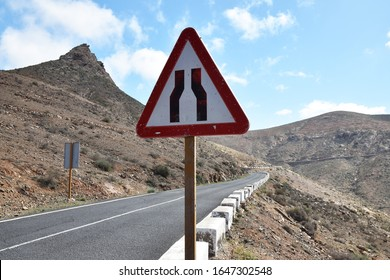narrow-road: (136, 28, 248, 136)
